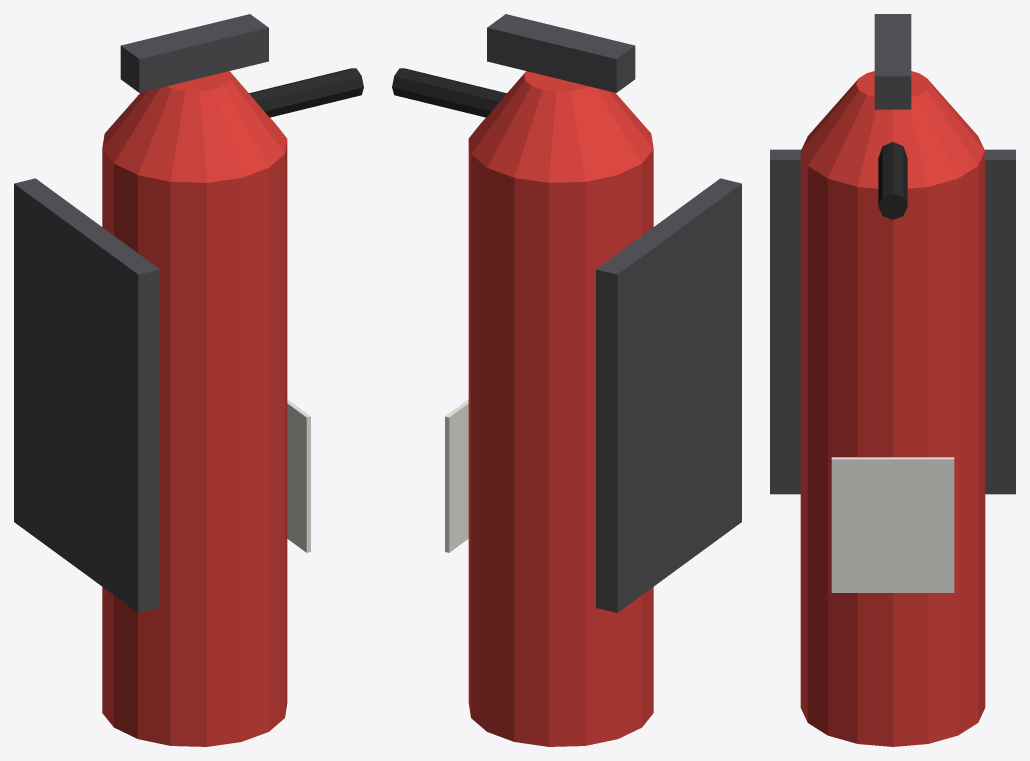
Rendered from SM_Prop_FireExtinguisher.glb.
The picture shows the model from 3 angles, left to right: view 1: azimuth 30°, elevation 25°; view 2: azimuth 150°, elevation 25°; view 3: azimuth 270°, elevation 25°; orthographic projection.
Visible parts, largest first — view 1: SM_Prop_FireExtinguisher; view 2: SM_Prop_FireExtinguisher; view 3: SM_Prop_FireExtinguisher.
Part boxes in pixels (x1,y1,x2,y2): SM_Prop_FireExtinguisher: (14, 14, 363, 746); SM_Prop_FireExtinguisher: (392, 14, 741, 746); SM_Prop_FireExtinguisher: (770, 14, 1015, 746).
Bounding box in the file's own units: 0.26 × 0.595 × 0.2.
